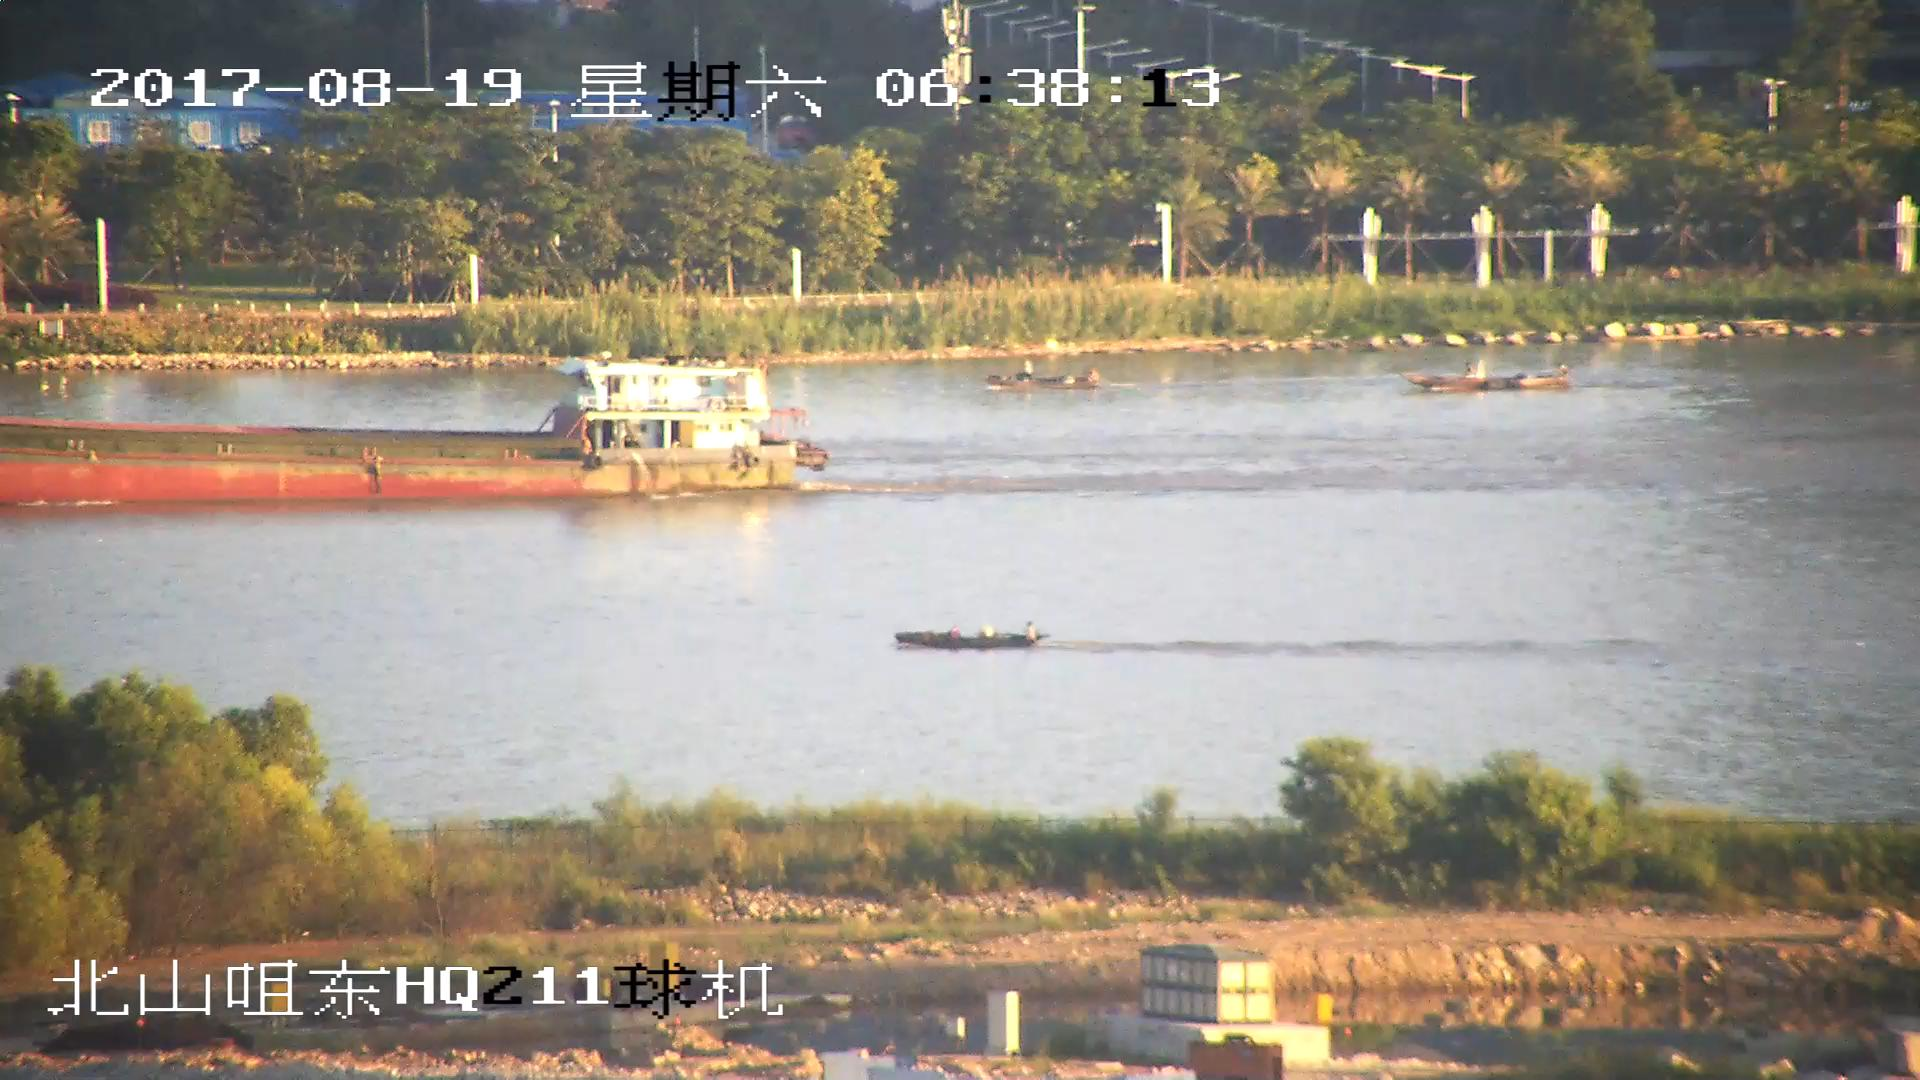bulk cargo carrier: (1, 353, 816, 501)
fishing boat: (1407, 363, 1581, 397), (892, 621, 1046, 656), (988, 367, 1098, 393)
